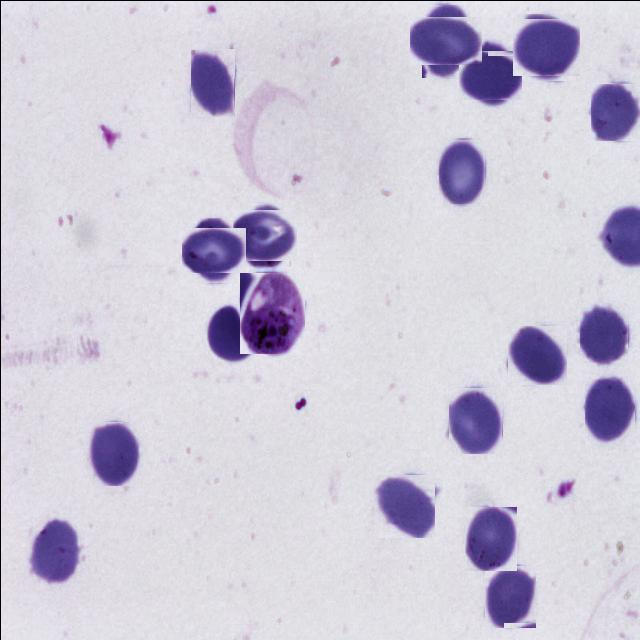red blood cell: (372, 474, 434, 537), (514, 16, 576, 78), (448, 386, 502, 453), (415, 10, 475, 70), (506, 325, 566, 384), (235, 205, 293, 263), (30, 517, 80, 584), (464, 506, 516, 570), (584, 378, 634, 444), (484, 564, 536, 627), (461, 46, 517, 103), (438, 138, 485, 204), (88, 421, 136, 485), (186, 222, 241, 277), (190, 48, 234, 116), (590, 82, 640, 140), (579, 302, 627, 362), (206, 303, 250, 363)
schizont: (239, 272, 304, 353)
